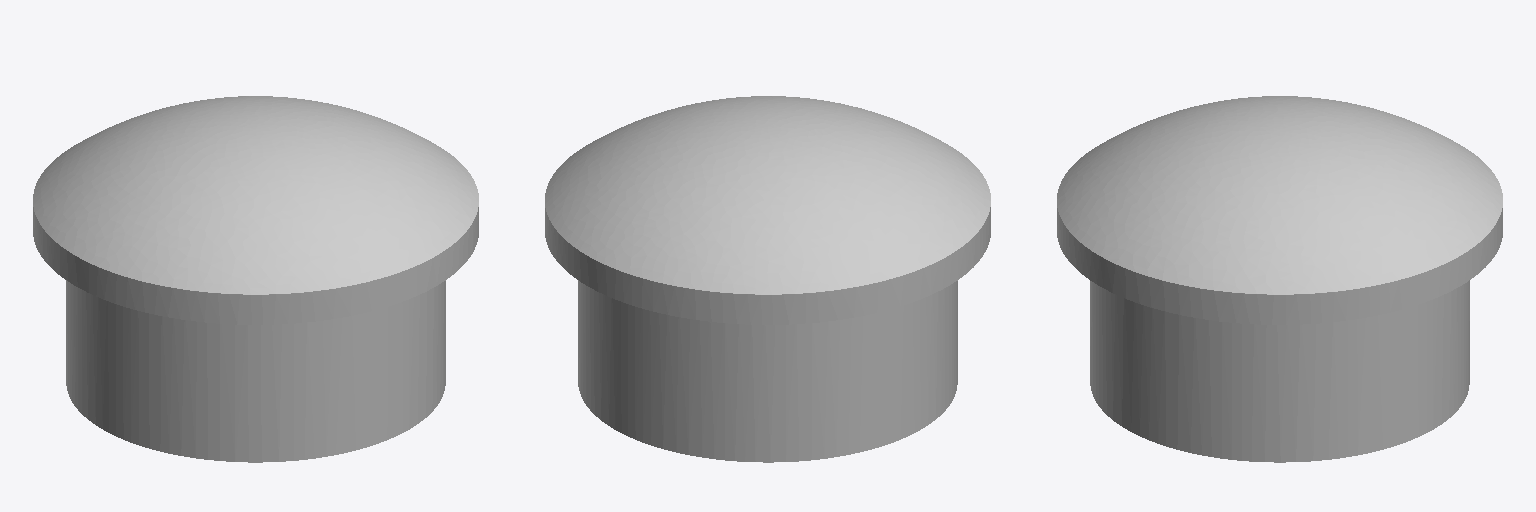
Rendered from Destination.obj.
3 renders of one model, left to right at view 1: azimuth 30°, elevation 25°; view 2: azimuth 150°, elevation 25°; view 3: azimuth 270°, elevation 25°, orthographic.
Visible parts, largest first — view 1: Destination; view 2: Destination; view 3: Destination.
Part boxes in pixels (bbox=[...]): Destination: bbox=[33, 96, 478, 462]; Destination: bbox=[545, 96, 990, 462]; Destination: bbox=[1057, 96, 1502, 462].
Bounding box in the file's own units: 1.27 × 0.7937 × 1.27.